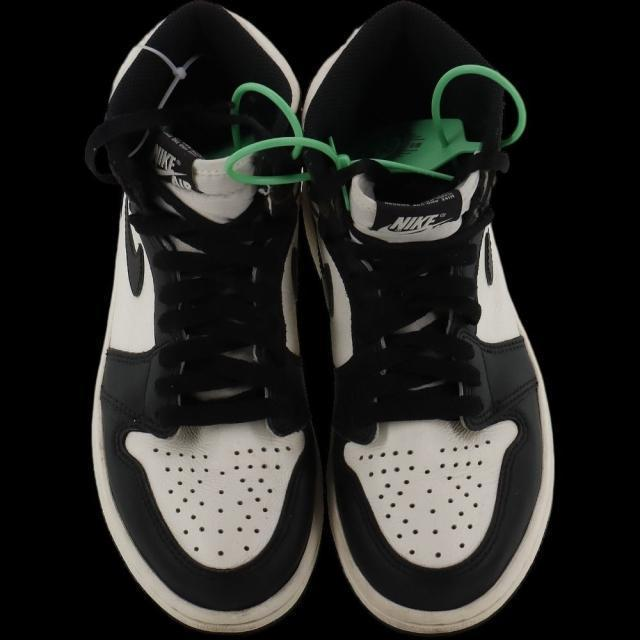nike original jordan 1: (296, 0, 566, 640), (88, 4, 331, 640)
